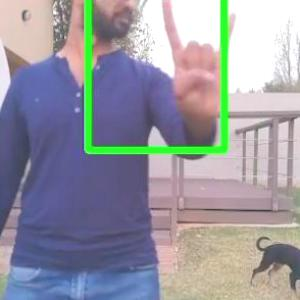takeoff-hand: (156, 0, 243, 125)
